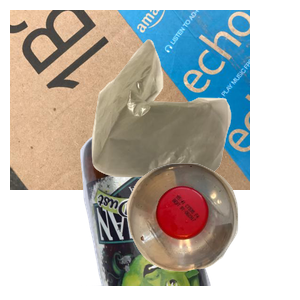cardboard: (10, 10, 250, 190)
glass: (78, 120, 281, 300)
plastic: (124, 161, 300, 300)
trash: (89, 37, 300, 213)
